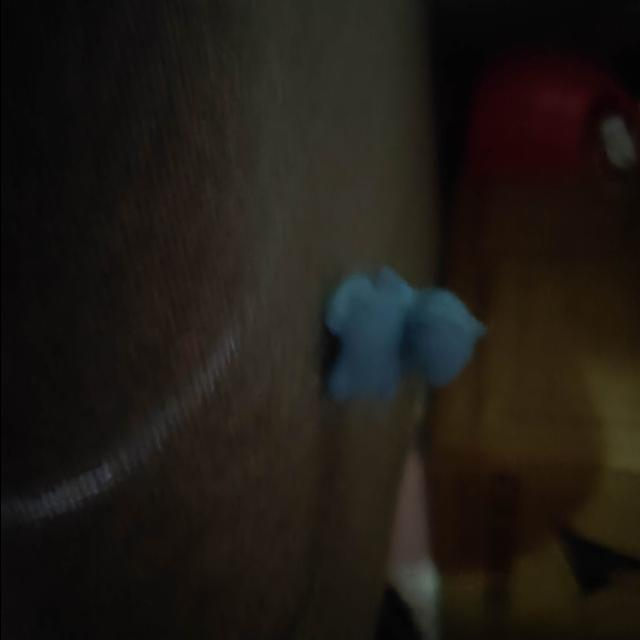DINO: (322, 254, 496, 412)
